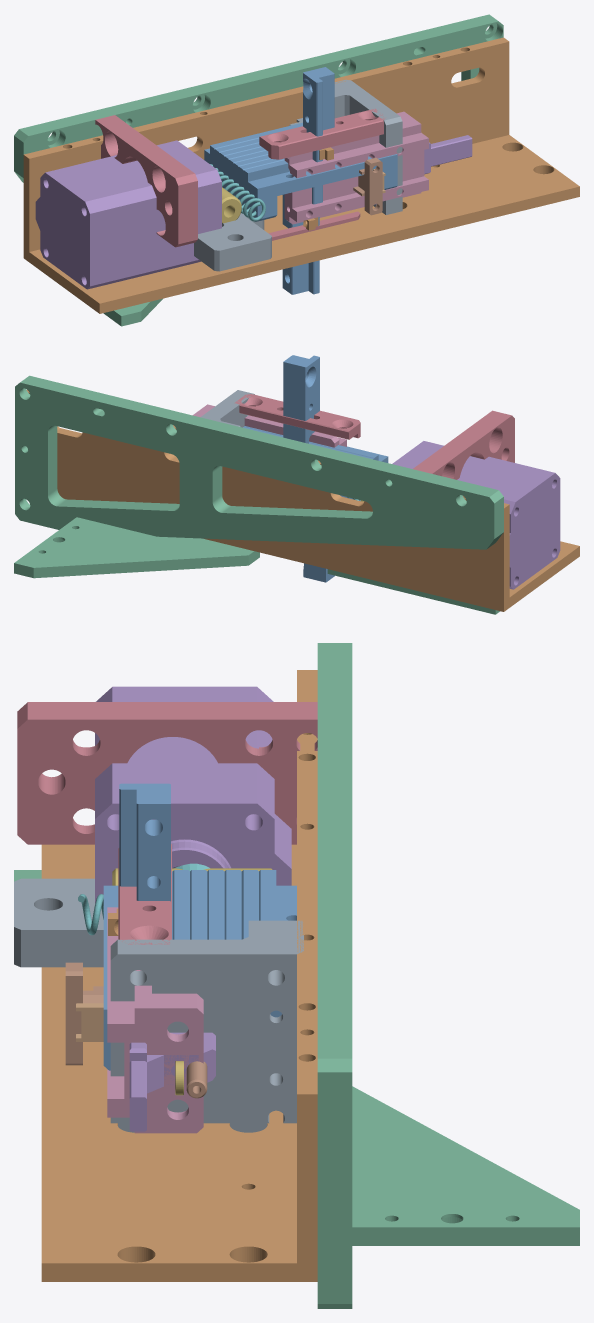
3 views of the same model, one above another, from view 1: azimuth 30°, elevation 25°; view 2: azimuth 150°, elevation 25°; view 3: azimuth 270°, elevation 25° (orthographic). The views are drawn at different scales.
Visible parts, largest first — view 1: part_14_17_0, part_05_8_0, part_15_18_0, part_10_13_0, part_13_16_0, part_16_19_0, part_21_24_0, part_04_7_0, part_09_12_0, part_01_1_0, part_01_0_0, part_08_11_0 (+5 smaller); view 2: part_15_18_0, part_14_17_0, part_03_5_0, part_05_8_0, part_16_19_0, part_01_1_0, part_04_7_0, part_10_13_0, part_09_12_0, part_03_4_0, part_13_16_0, part_01_0_0; view 3: part_14_17_0, part_09_12_0, part_15_18_0, part_16_19_0, part_03_5_0, part_05_8_0, part_10_13_0, part_13_16_0, part_21_24_0, part_01_1_0, part_17_20_0, part_04_7_0 (+2 smaller).
Part boxes in pixels (x1,y1,x2,y2): part_14_17_0: (23,37,579,313); part_05_8_0: (35,140,221,289); part_15_18_0: (14,14,503,182); part_10_13_0: (284,111,428,224); part_13_16_0: (204,122,397,221); part_16_19_0: (95,115,197,247); part_21_24_0: (194,213,271,271); part_04_7_0: (259,108,385,159); part_09_12_0: (289,79,402,214); part_01_1_0: (303,67,334,203); part_01_0_0: (282,186,319,294); part_08_11_0: (353,158,382,215); part_15_18_0: (15,375,503,549); part_14_17_0: (26,390,579,611); part_03_5_0: (14,517,259,578); part_05_8_0: (392,441,560,589); part_16_19_0: (413,410,514,479); part_01_1_0: (283,355,319,443); part_04_7_0: (234,394,360,439); part_10_13_0: (192,404,346,447); part_09_12_0: (201,390,254,427); part_03_4_0: (327,569,499,614); part_13_16_0: (243,426,388,500); part_01_0_0: (303,563,334,582); part_14_17_0: (41,670,317,1281); part_09_12_0: (110,920,303,1132); part_15_18_0: (317,643,352,1308); part_16_19_0: (17,702,317,844); part_03_5_0: (352,1086,579,1245); part_05_8_0: (95,686,291,903); part_10_13_0: (107,907,203,1133); part_13_16_0: (103,870,296,1070); part_21_24_0: (14,878,103,967); part_01_1_0: (119,783,170,901); part_17_20_0: (129,1032,215,1131); part_04_7_0: (118,844,171,944).
Bounding box in the file's own units: 291 × 122 × 164.
